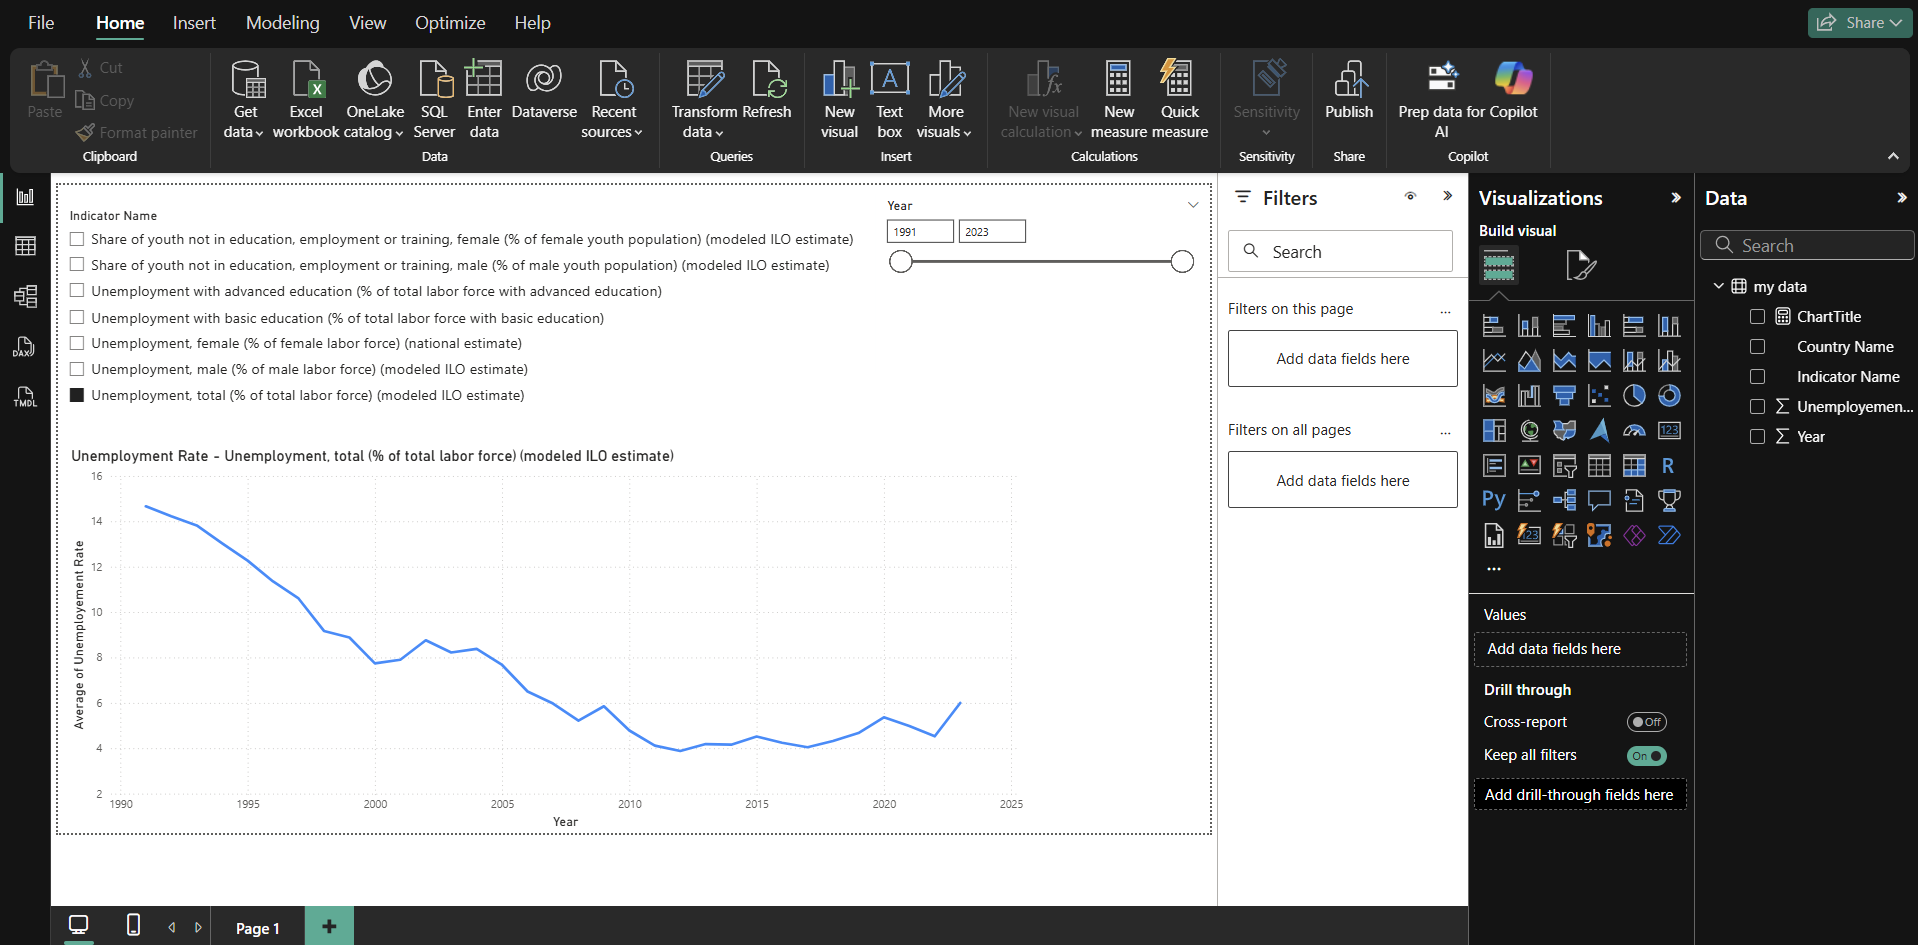

This screenshot's page, from the dashboard's own definition file:
{"tool":"powerbi","page":{"name":"Page 1","canvas":[1280,720],"ordinal":0},"visuals":[{"type":"slicer","fields":{"Values":["my data.Indicator Name"]},"box":[9.6,9.6,887.8,216.8],"z":0},{"type":"lineChart","fields":{"Category":["my data.Year"],"Y":["Avg(my data.Unemployement Rate)"]},"box":[10,290,1067.5,430],"z":1000},{"type":"slicer","fields":{"Values":["my data.Year"]},"box":[908,10,372,199],"z":1001}]}

Visuals, with their boxes on the page's 1280x720 design canvas (x1, y1, x2, y2). These are canvas units, not pixel positions in the 1918x945 screenshot, which may show the page scaled, cropped or inside an application window:
slicer - my data.Indicator Name: (10,10,897,226)
lineChart - my data.Year x Avg(my data.Unemployement Rate): (10,290,1078,720)
slicer - my data.Year: (908,10,1280,209)
